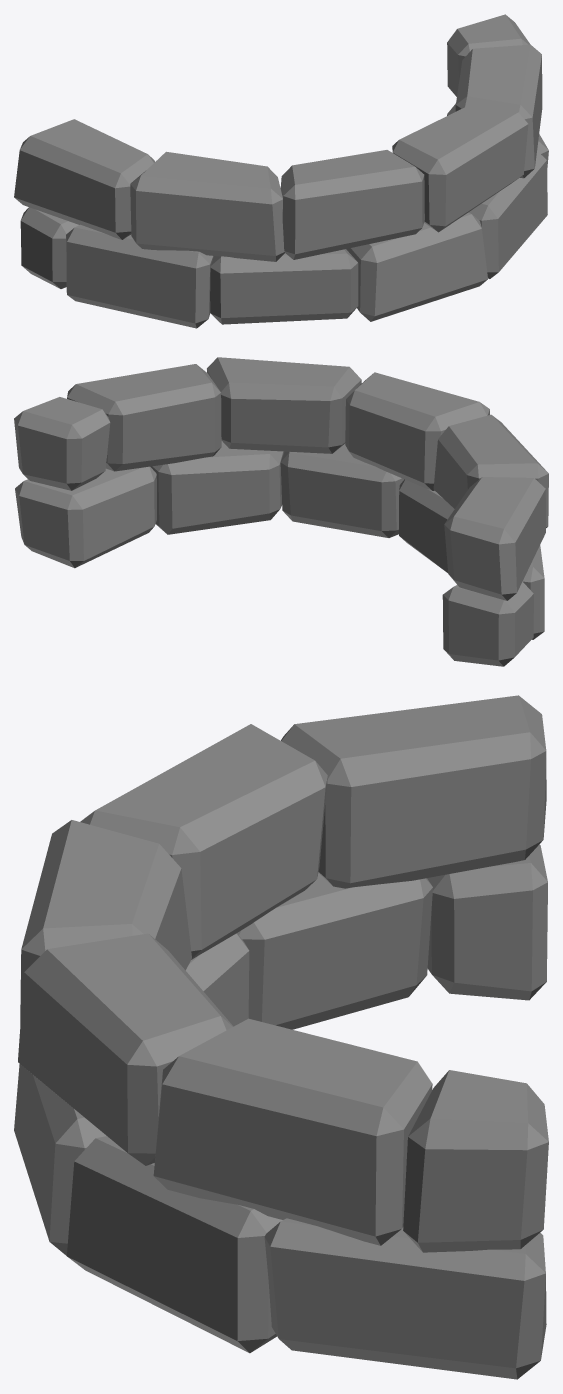
File: BrickWall2mSection_01_T180_Solo.fbx
3 views of the same model, one above another, from view 1: azimuth 30°, elevation 25°; view 2: azimuth 150°, elevation 25°; view 3: azimuth 270°, elevation 25° (orthographic). The views are drawn at different scales.
Parts seen in each view (by area): view 1: BrickWall2mSection_01_T180_Solo; view 2: BrickWall2mSection_01_T180_Solo; view 3: BrickWall2mSection_01_T180_Solo.
Boxes of the visible parts, left/top/right/bottom form: BrickWall2mSection_01_T180_Solo: left=14, top=14, right=548, bottom=328; BrickWall2mSection_01_T180_Solo: left=14, top=357, right=548, bottom=666; BrickWall2mSection_01_T180_Solo: left=14, top=695, right=548, bottom=1379.
Bounding box in the file's own units: 148 × 41.78 × 73.59.
